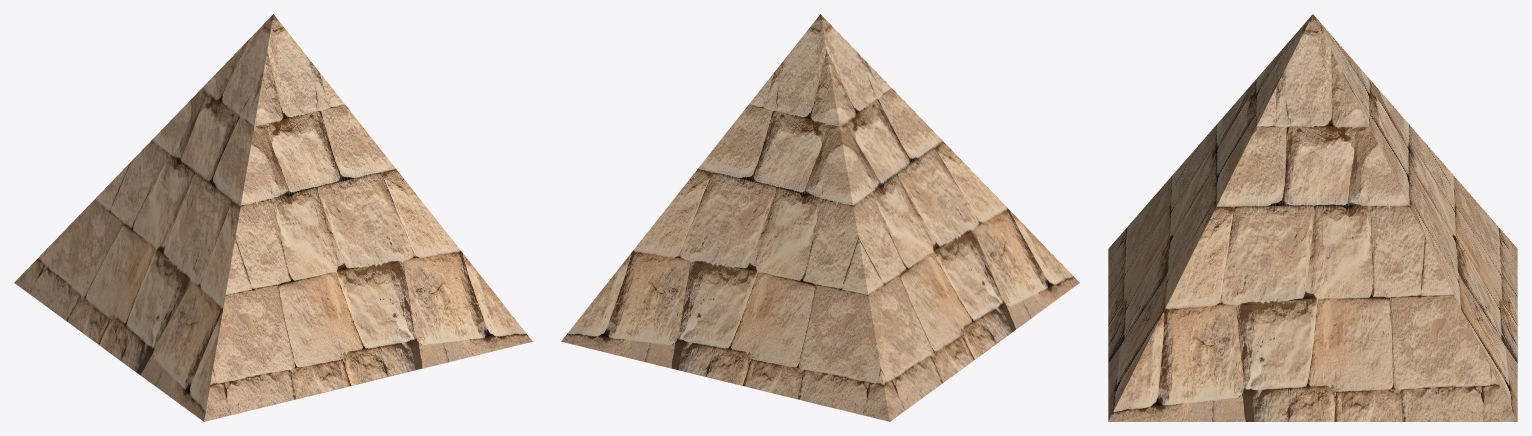
3 renders of one model, left to right at view 1: azimuth 30°, elevation 25°; view 2: azimuth 150°, elevation 25°; view 3: azimuth 270°, elevation 25°, orthographic. The views are drawn at different scales.
Parts seen in each view (by area): view 1: Plane.004; view 2: Plane.004; view 3: Plane.004.
Boxes of the visible parts, box(x1,y1,x2,y2) form: Plane.004: box(14, 14, 532, 421); Plane.004: box(561, 14, 1079, 421); Plane.004: box(1108, 14, 1517, 421).
Bounding box in the file's own units: 2 × 1.73 × 2.
Materials: 1 (1 with a texture image).
